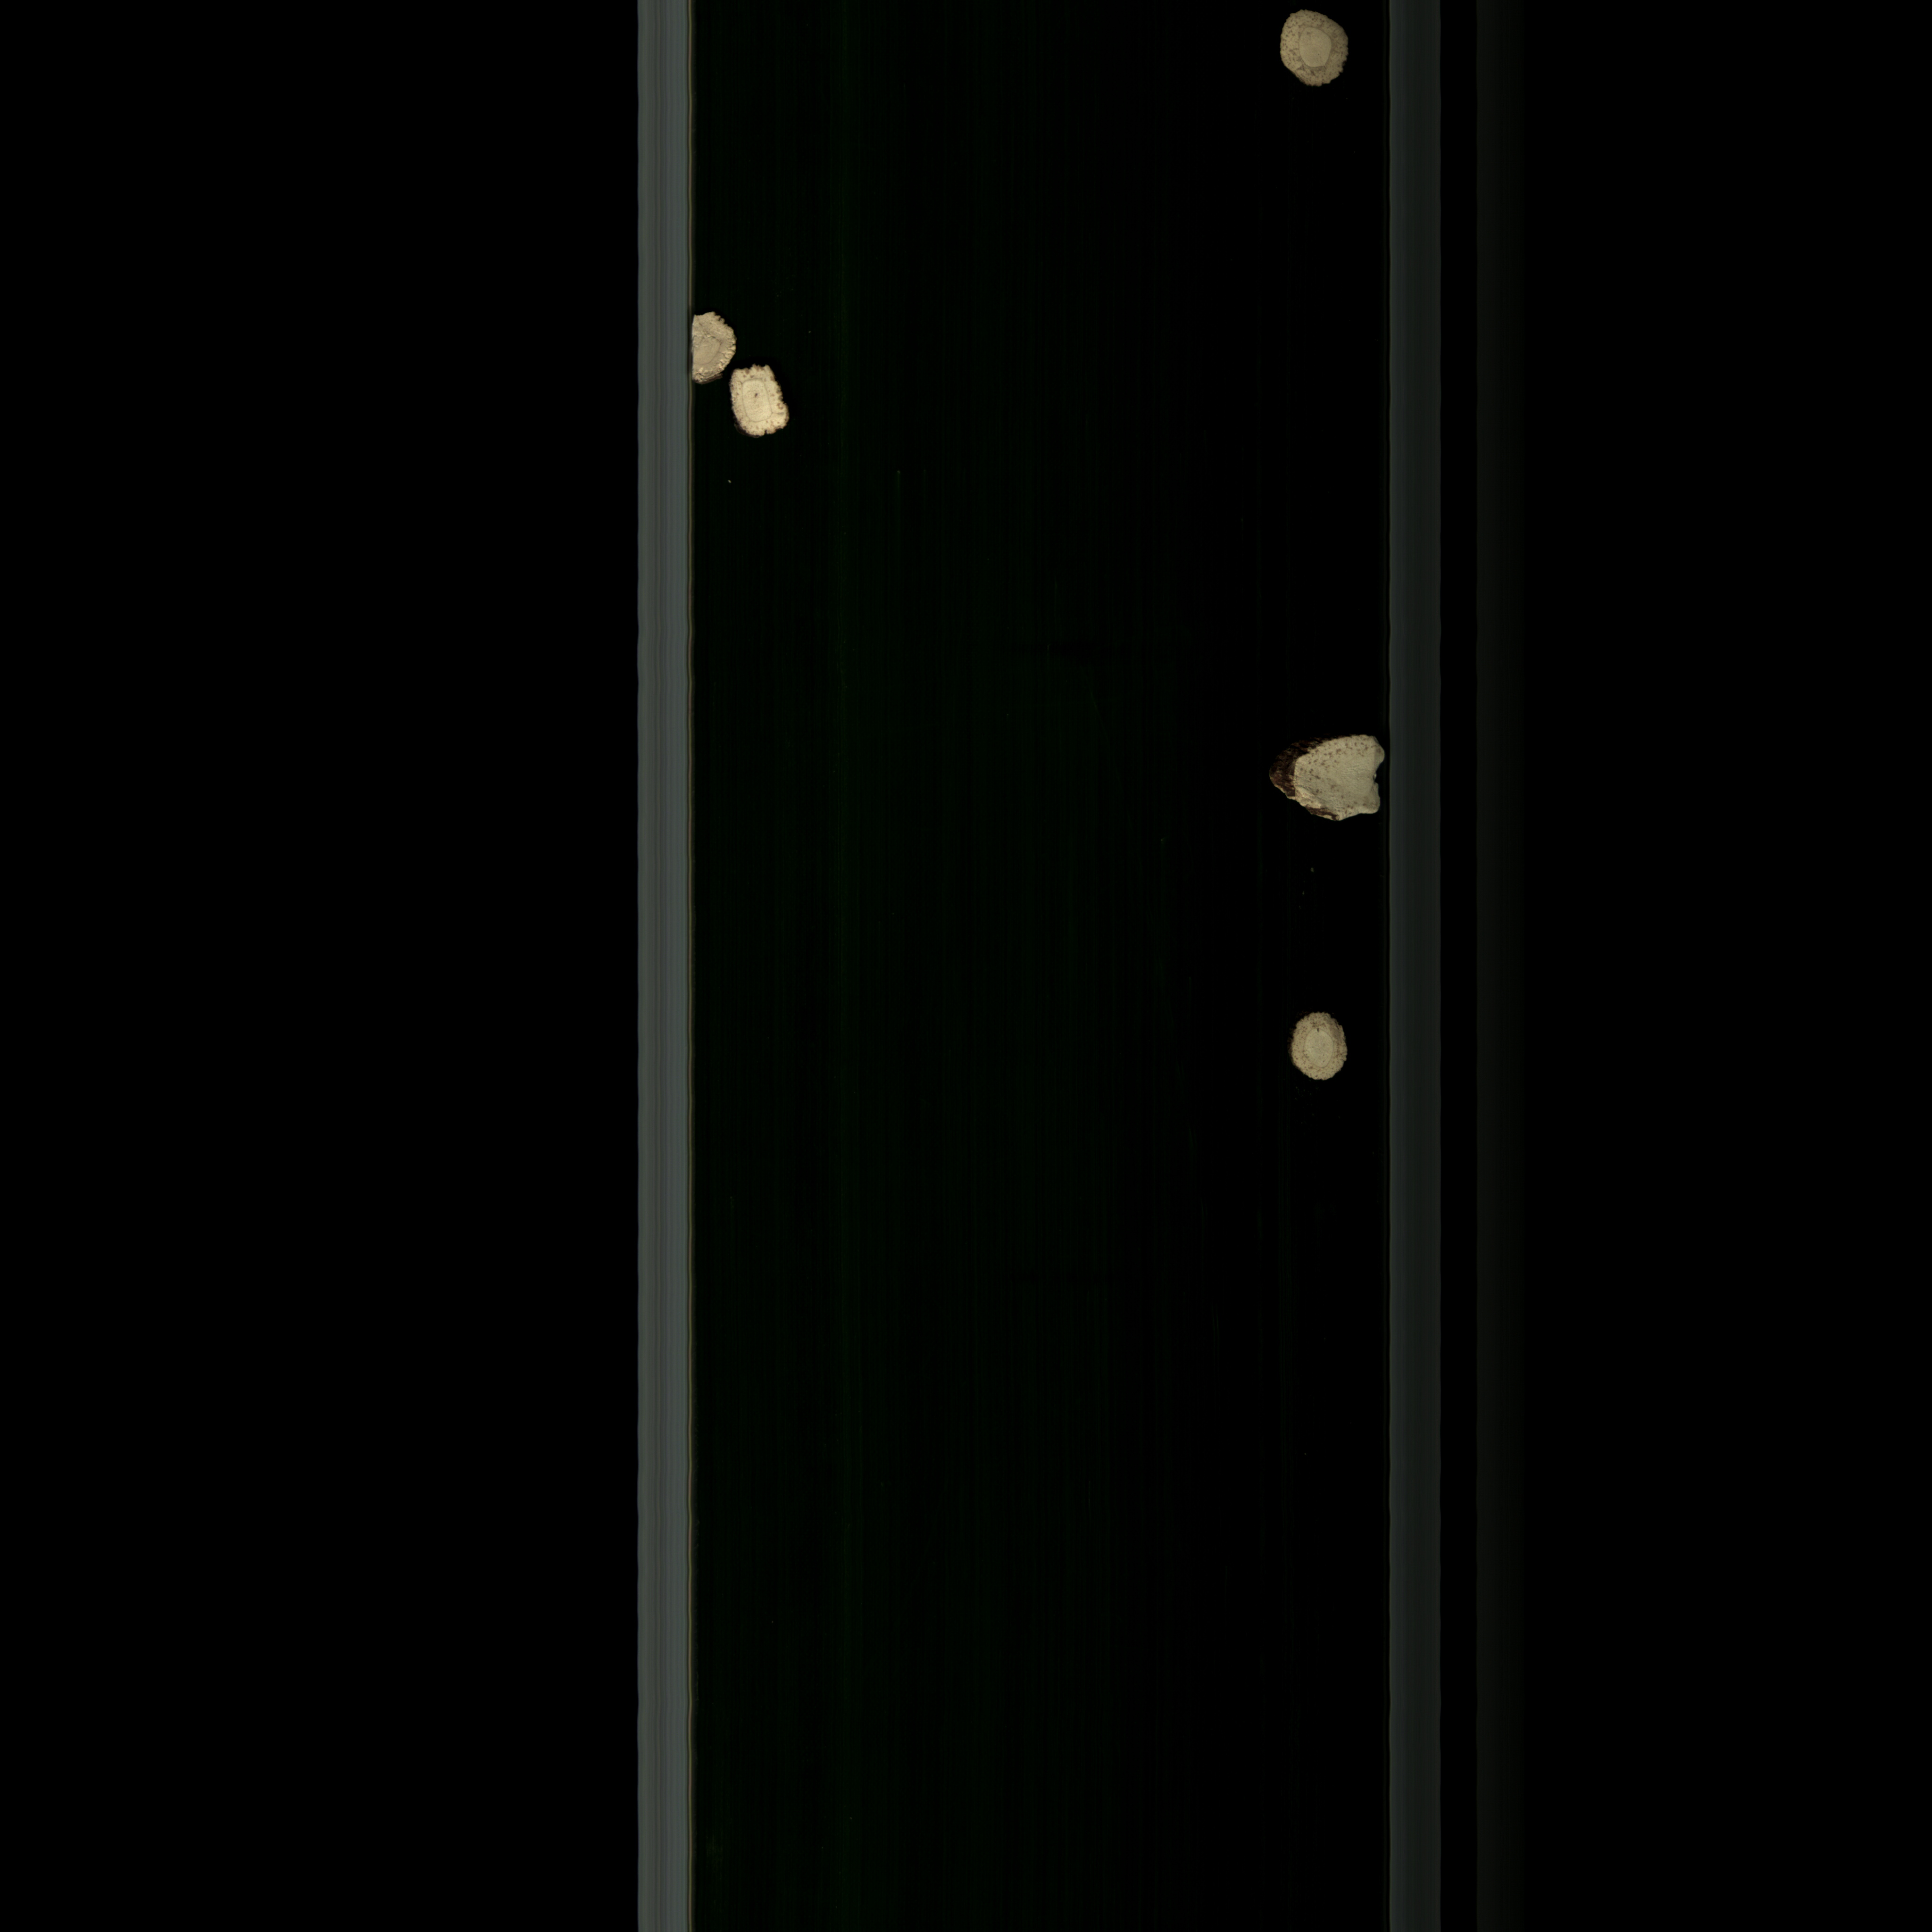debris: (1269, 727, 1391, 830), (683, 308, 740, 384)
distortion: (722, 361, 803, 444)
moldy: (1279, 9, 1361, 97)
